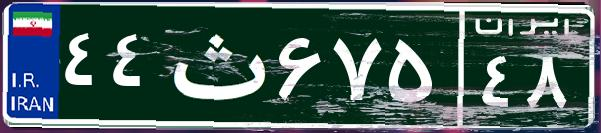4: (57, 26, 110, 107), (475, 38, 525, 113), (110, 28, 158, 105)
5: (385, 28, 445, 110)
6: (273, 28, 330, 110)
7: (330, 28, 385, 110)
8: (525, 38, 570, 115)
ث: (158, 15, 273, 115)
